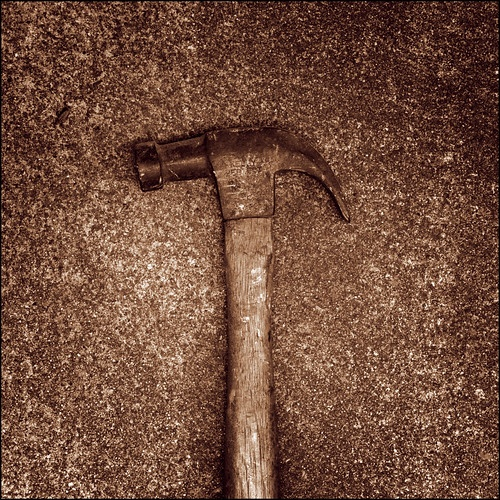hammer: (130, 124, 351, 500)
